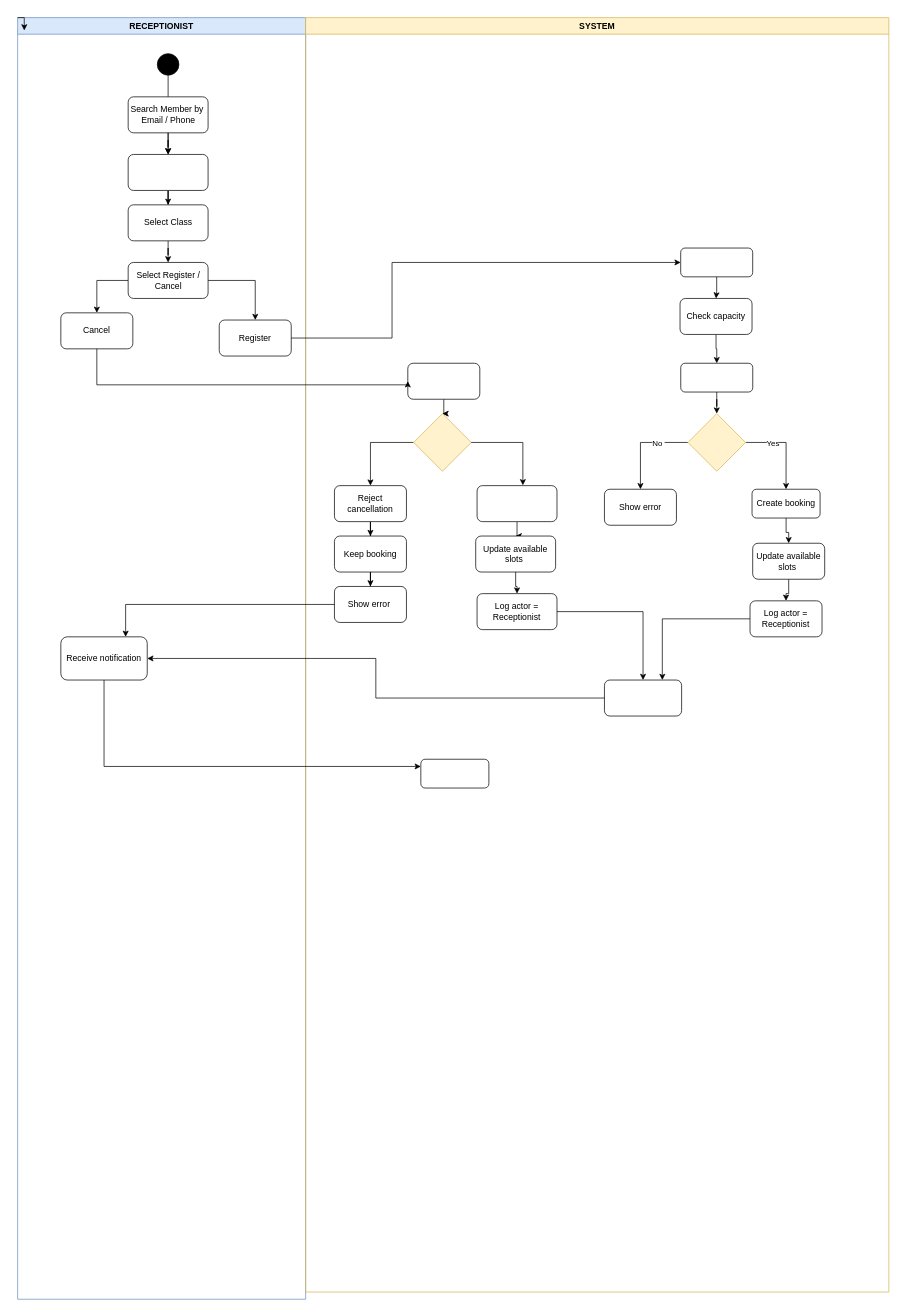
This 901x1312 diagram has some shape labels left out. Each missing label, with the centre of its shape:
"Cancel Booking" goes at (516,503).
"Check cancellation deadline" goes at (443,381).
"Check Membership" goes at (716,262).
"Check schedule conflict" goes at (716,377).
"End" goes at (454,773).
"Registration valid" goes at (716,442).
"Select Member" goes at (167,172).
"Show success message" goes at (643,697).
"Within cancellation window?" goes at (442,442).
